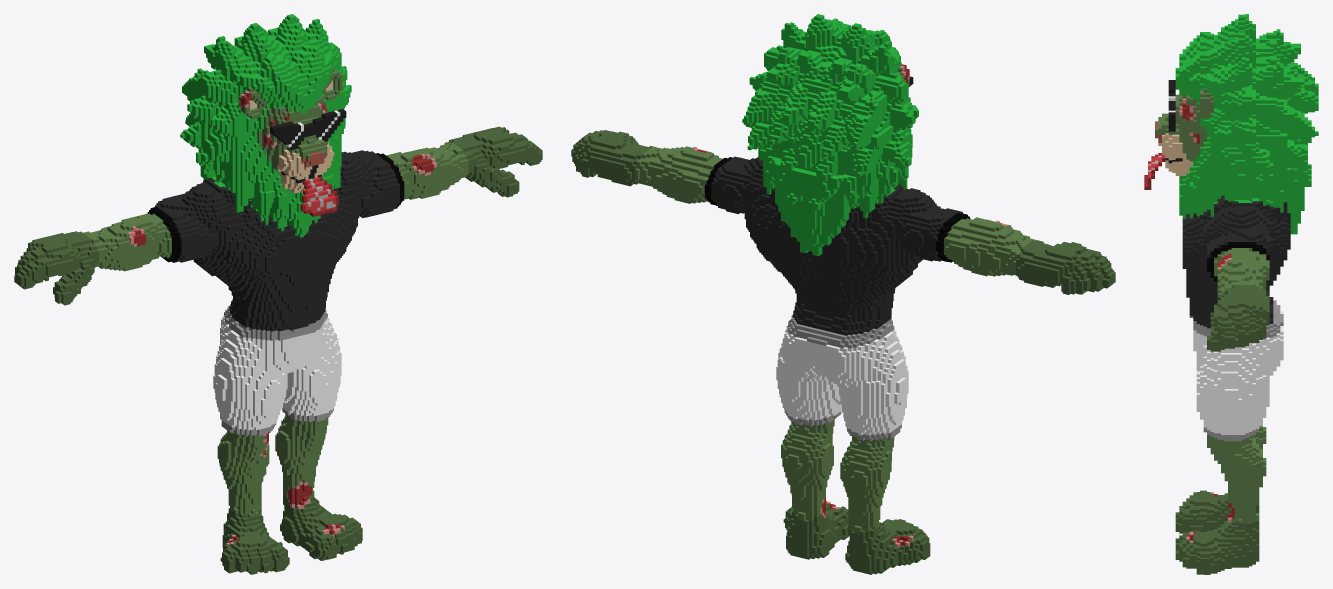
The model's file is 886-D_5EAqkw.glb.
3 renders of one model, left to right at view 1: azimuth 30°, elevation 25°; view 2: azimuth 150°, elevation 25°; view 3: azimuth 270°, elevation 25°, orthographic. The views are drawn at different scales.
Parts seen in each view (by area): view 1: meat; view 2: meat; view 3: meat.
Boxes of the visible parts, x1=… form: meat: x1=14, y1=14, x2=542, y2=574; meat: x1=571, y1=14, x2=1115, y2=574; meat: x1=1144, y1=14, x2=1318, y2=574.
Bounding box in the file's own units: 17.2 × 16.5 × 5.
Materials: 5 (5 with a texture image).
